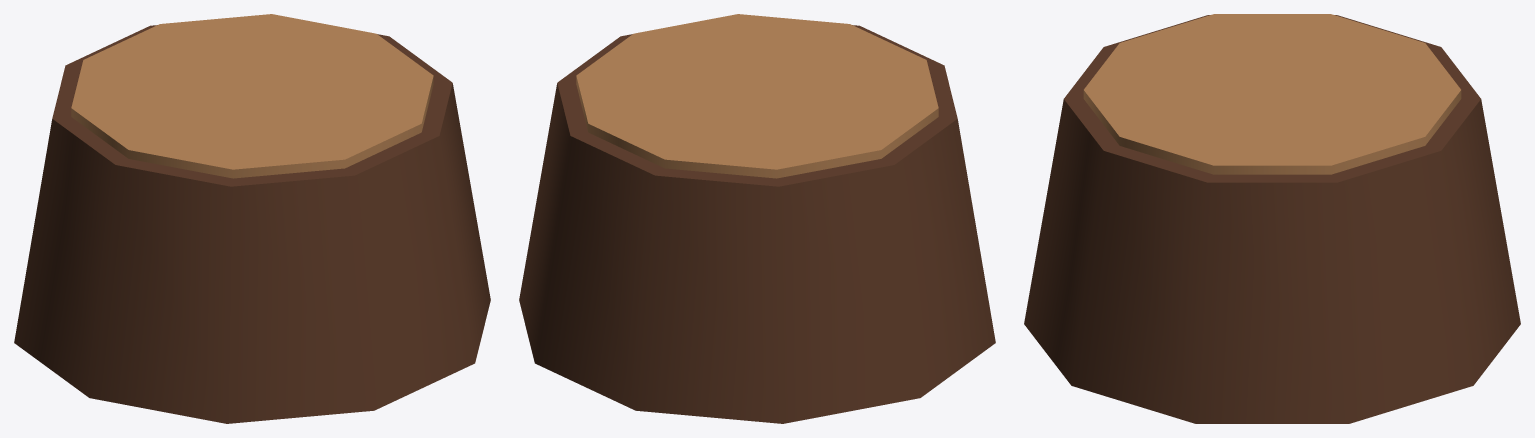
Rendered from stump.glb.
3 views of the same model, side by side, from view 1: azimuth 30°, elevation 25°; view 2: azimuth 150°, elevation 25°; view 3: azimuth 270°, elevation 25° (orthographic).
Parts seen in each view (by area): view 1: stump; view 2: stump; view 3: stump.
Boxes of the visible parts, x1=… form: stump: x1=14, y1=14, x2=490, y2=423; stump: x1=519, y1=14, x2=995, y2=423; stump: x1=1024, y1=14, x2=1520, y2=423.
Size of the model in its own units: 0.9511 by 0.52 by 1.
